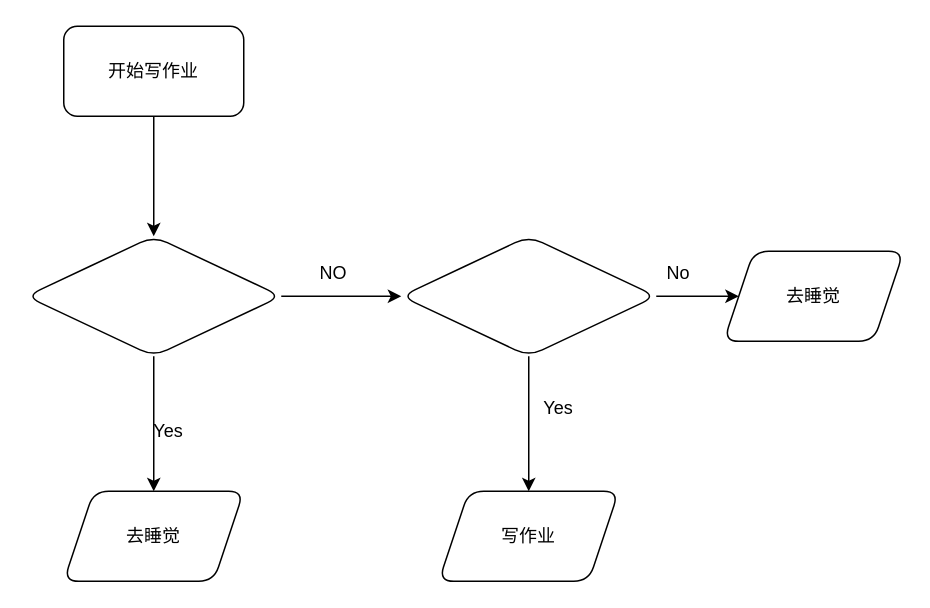
Image size: 930x608. Some labels were removed from this diagram. Each missing label, with the centre of its shape:
"作业不难" goes at point (528, 295).
"如果作业很难" goes at point (153, 295).
